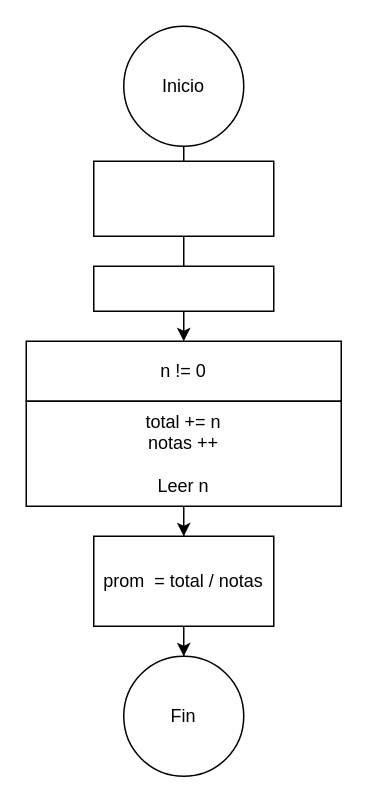
Image size: 368x803. Some labels were removed from this diagram. The shapes that lost their labels are listed below. From the top down, each one's centre as x and y in pixels, then its label:
At point 183,198: "prom = 0 total = 0 notas = 0".
At point 183,288: "Leer n".
